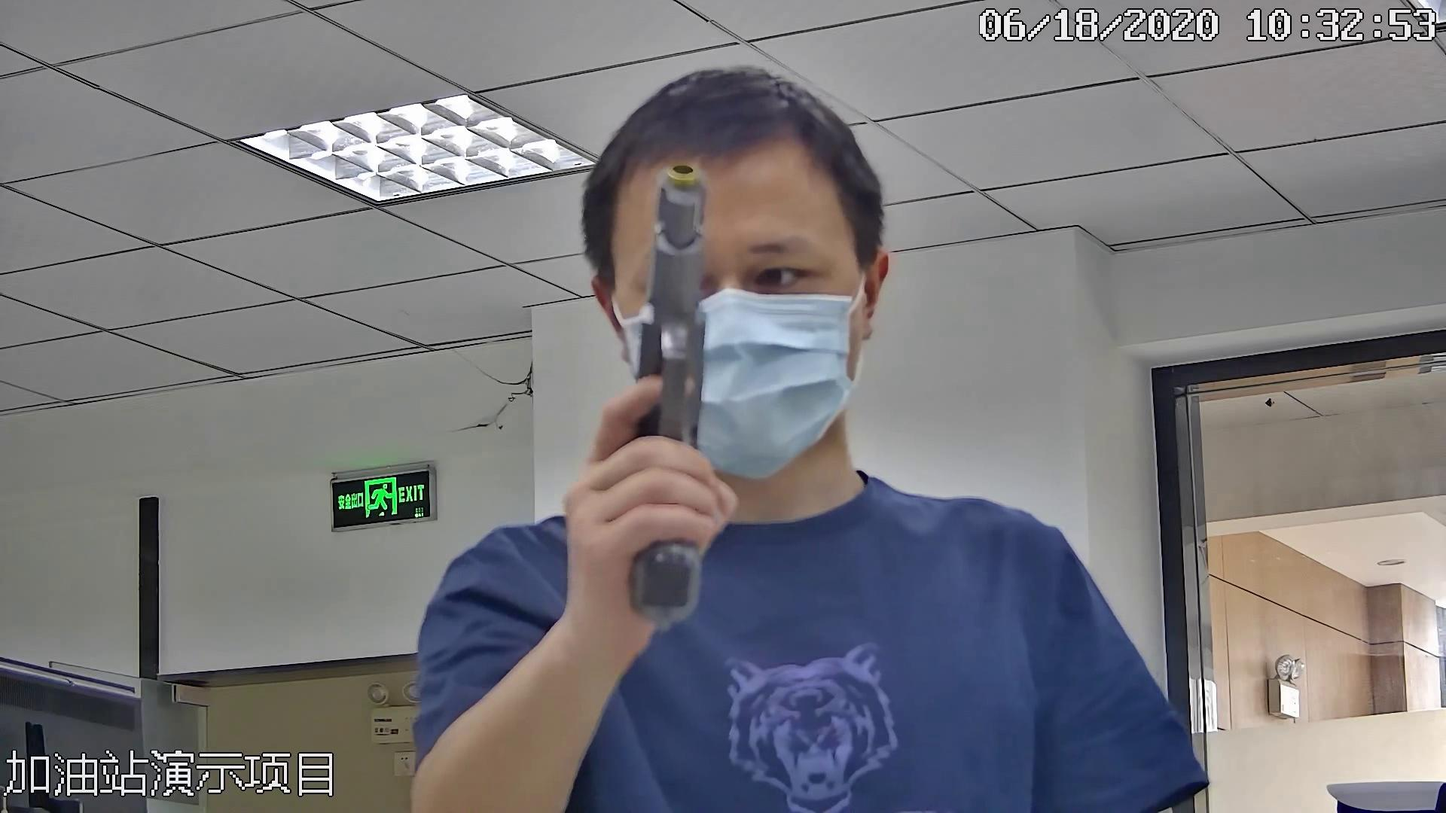gun: (606, 154, 730, 638)
